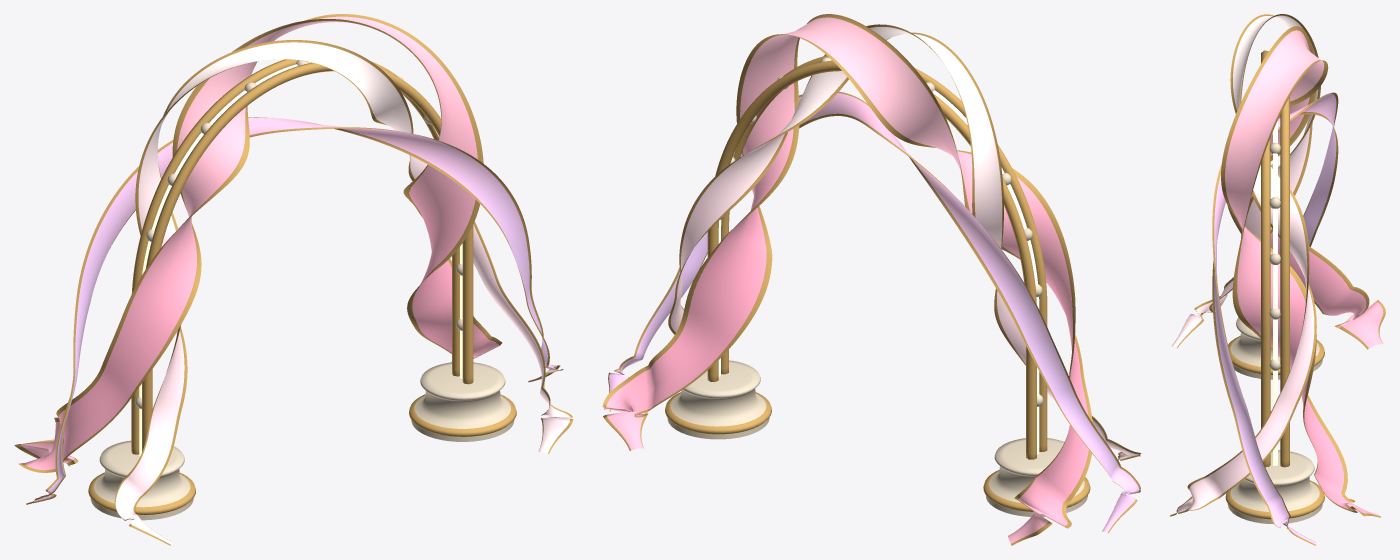
Rendered from ribbon-portal.glb.
3 views of the same model, side by side, from view 1: azimuth 30°, elevation 25°; view 2: azimuth 150°, elevation 25°; view 3: azimuth 270°, elevation 25° (orthographic). The views are drawn at different scales.
Parts seen in each view (by area): view 1: ribbon-portal; view 2: ribbon-portal; view 3: ribbon-portal.
Boxes of the visible parts, box(x1,y1,x2,y2) form: ribbon-portal: box(14, 14, 573, 545); ribbon-portal: box(602, 14, 1141, 545); ribbon-portal: box(1170, 14, 1385, 545).
Bounding box in the file's own units: 7.58 × 5.96 × 2.91.
